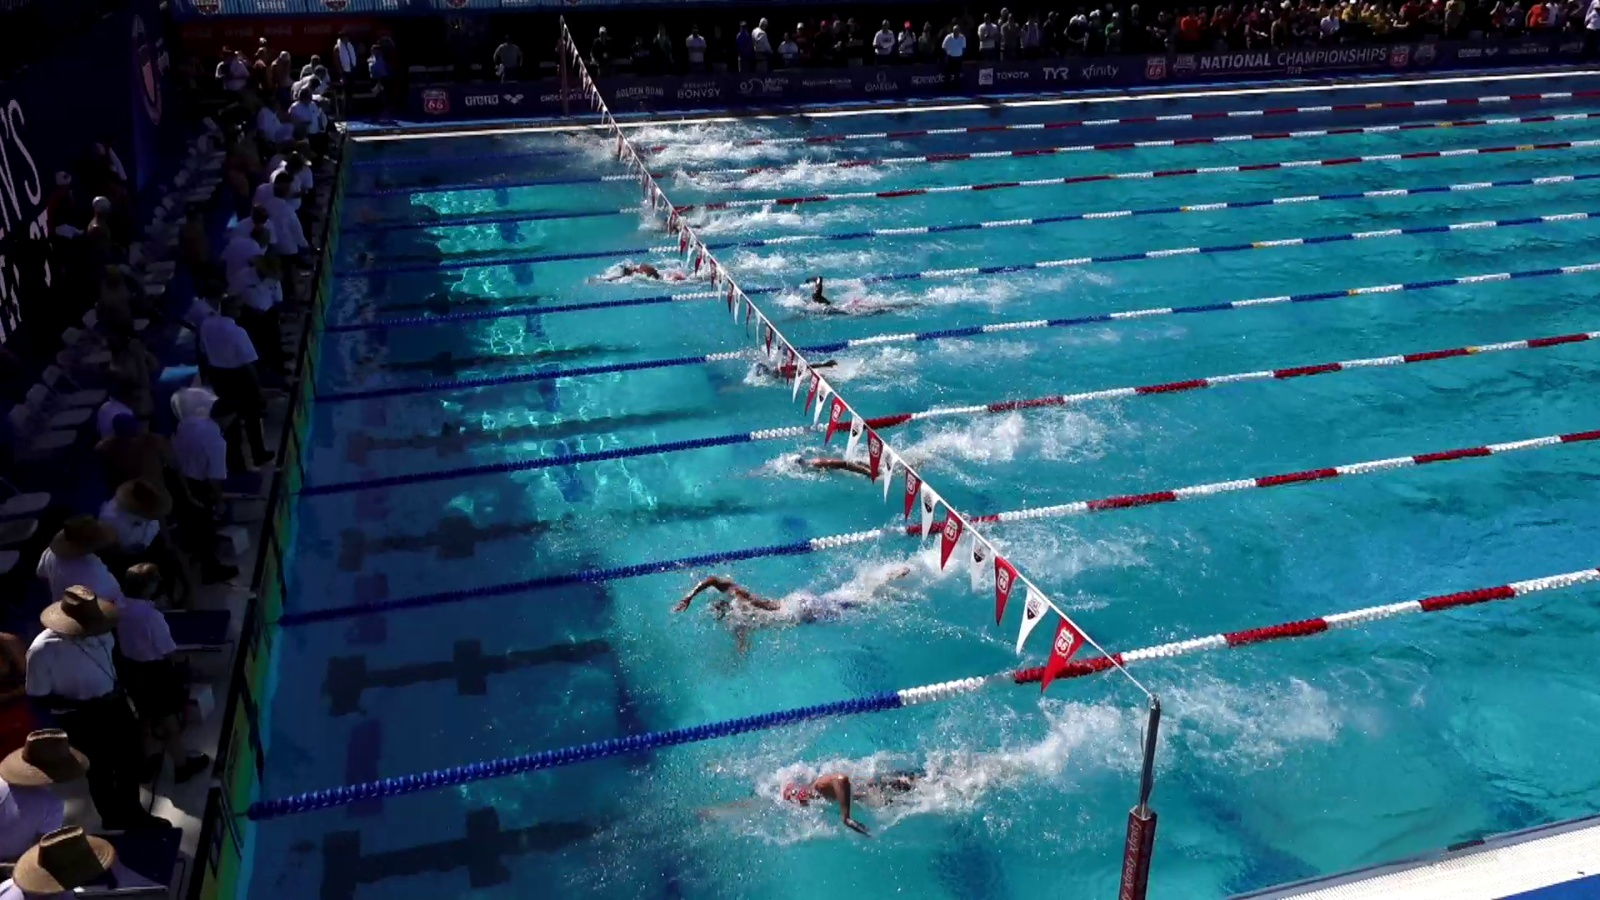swimmerw: (709, 755, 1026, 840), (677, 580, 886, 663), (782, 436, 949, 477), (795, 273, 930, 321), (751, 356, 858, 388), (587, 257, 721, 280), (644, 212, 722, 242), (684, 175, 762, 193), (549, 130, 637, 146), (616, 145, 684, 165)
